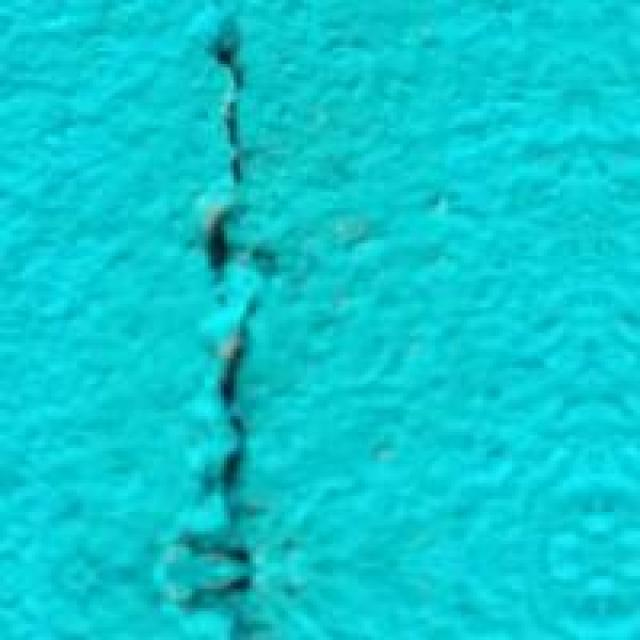crack: (150, 3, 310, 630)
